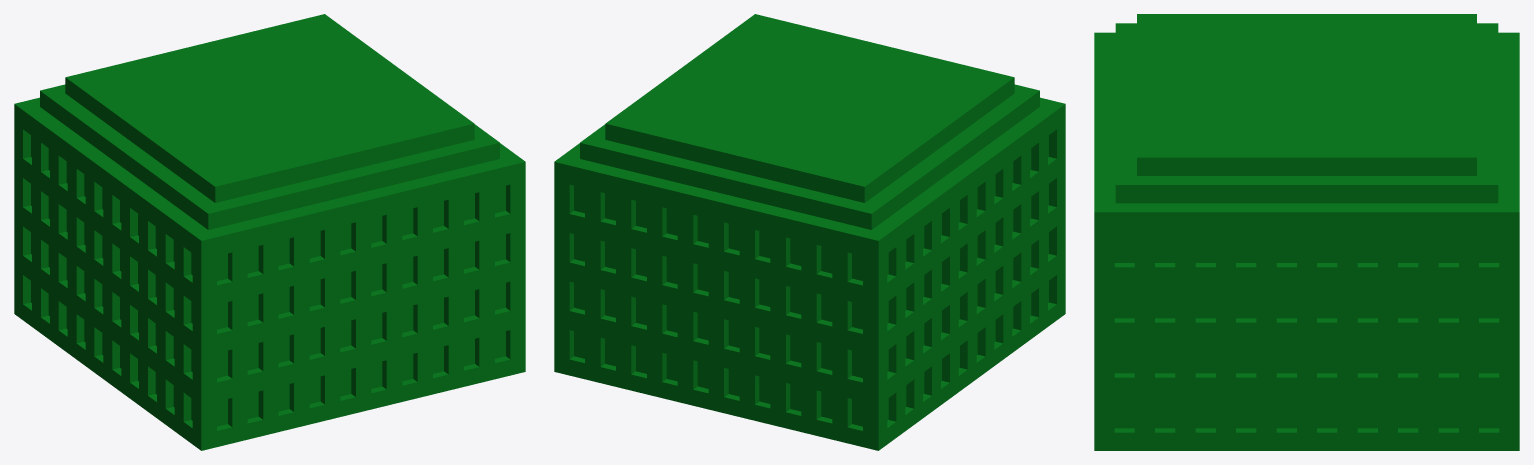
Rendered from gruener_turm.fbx.
The picture shows the model from 3 angles, left to right: view 1: azimuth 30°, elevation 25°; view 2: azimuth 150°, elevation 25°; view 3: azimuth 270°, elevation 25°; orthographic projection. The views are drawn at different scales.
Parts seen in each view (by area): view 1: imagetostl_mesh0; view 2: imagetostl_mesh0; view 3: imagetostl_mesh0.
Boxes of the visible parts, box(x1,y1,x2,y2) form: imagetostl_mesh0: box(14, 14, 525, 450); imagetostl_mesh0: box(554, 14, 1065, 450); imagetostl_mesh0: box(1094, 14, 1519, 450).
Bounding box in the file's own units: 1050 × 750 × 1050.
